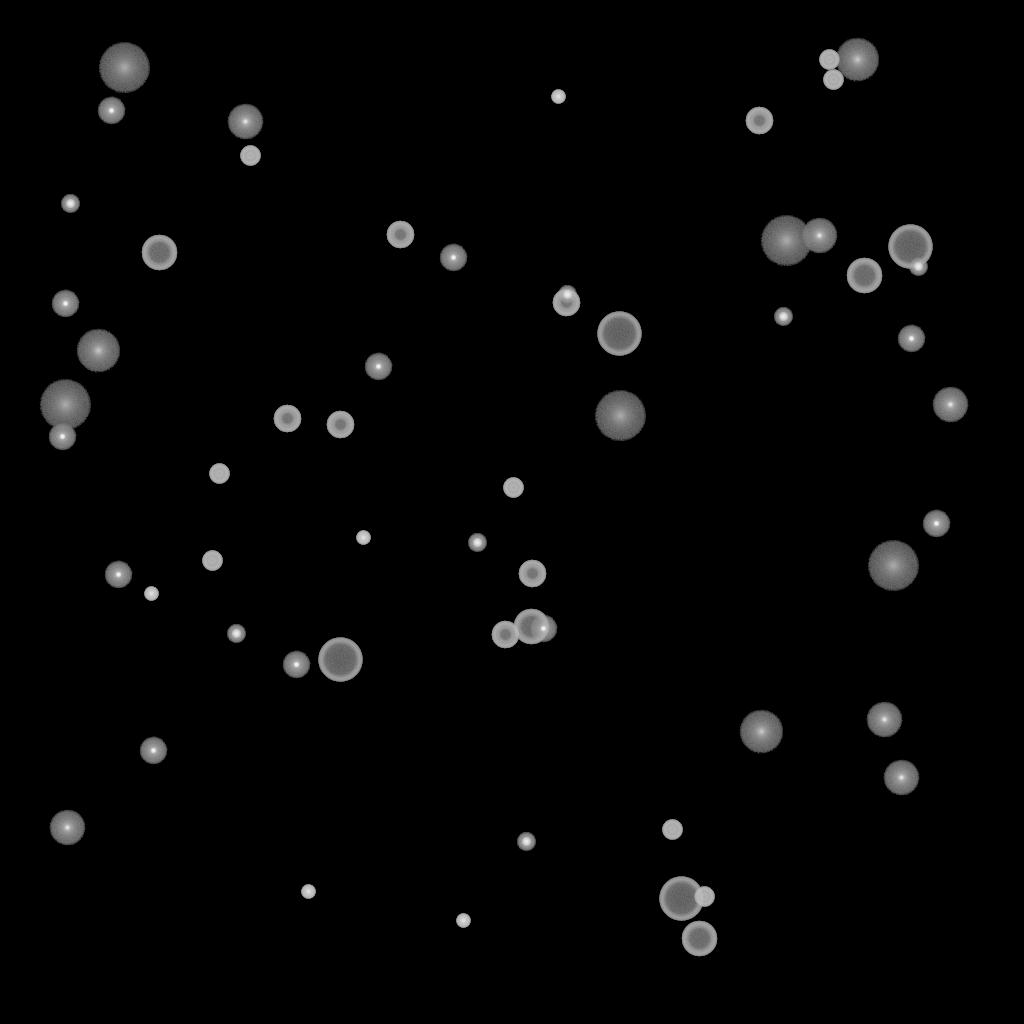depth:-10: (897, 325, 925, 353), (139, 737, 167, 765), (439, 244, 467, 272), (922, 510, 950, 538), (529, 615, 557, 643), (51, 290, 79, 318), (97, 97, 125, 125), (104, 561, 132, 589), (364, 353, 392, 381), (282, 651, 310, 679), (48, 423, 76, 451)
depth:-20: (909, 258, 927, 276), (558, 286, 576, 304), (774, 308, 792, 326), (517, 833, 535, 851), (468, 534, 486, 552), (227, 625, 245, 643), (61, 195, 79, 213)
depth:-30: (144, 587, 158, 601), (301, 885, 315, 899), (456, 914, 470, 928), (551, 90, 565, 104), (356, 531, 370, 545)
depth:-40: (694, 887, 714, 907), (209, 464, 229, 484), (202, 551, 222, 571), (503, 478, 523, 498), (823, 70, 843, 90), (240, 146, 260, 166), (819, 50, 839, 70), (662, 820, 682, 840)
depth:-50: (552, 289, 580, 317), (326, 411, 354, 439), (491, 621, 519, 649), (273, 405, 301, 433), (518, 560, 546, 588), (745, 107, 773, 135), (386, 221, 414, 249)
depth:-60: (141, 235, 177, 271), (513, 609, 549, 645), (681, 921, 717, 957), (846, 258, 882, 294)
depth:-70: (318, 638, 362, 682), (888, 225, 932, 269), (659, 877, 703, 921), (597, 312, 641, 356)
depth:0: (866, 702, 902, 738), (883, 760, 919, 796), (801, 218, 837, 254), (227, 104, 263, 140), (932, 387, 968, 423), (49, 810, 85, 846)
depth:10: (739, 710, 783, 754), (835, 38, 879, 82), (76, 329, 120, 373)
depth:20: (39, 380, 91, 430), (594, 391, 646, 441), (867, 541, 919, 591), (760, 216, 812, 266), (98, 43, 150, 93)
